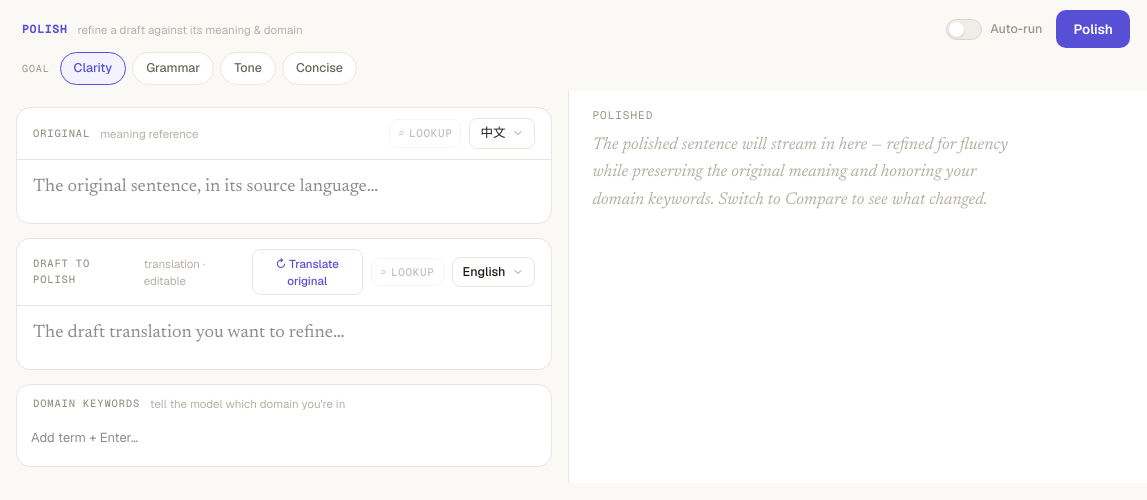
Test case: PolishPanel › shows a Stop control while translating the original and aborts it on click
Type "原文" into the text box labelled "original" at (206, 188), box [17,160,394,216]
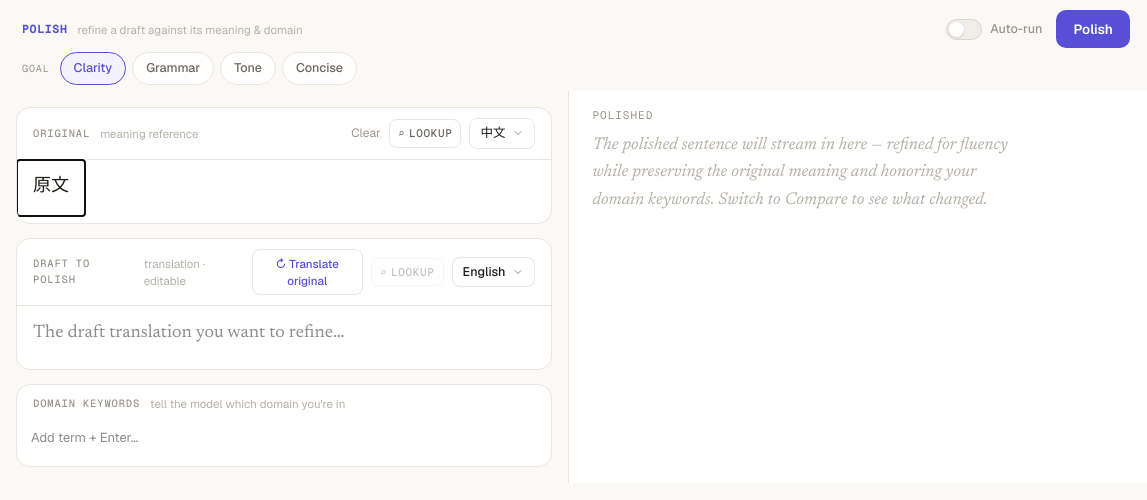
Click the button "↻ Translate original" at (307, 272), box [252,249,363,295]
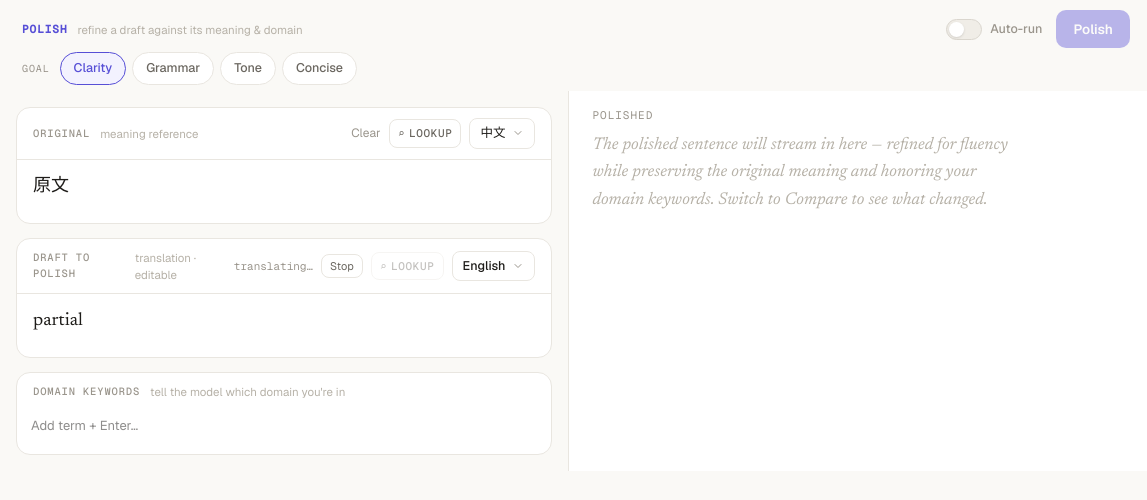
Result: the text "translating…" is shown at [234,258,313,274]
Click the button "Stop" at (342, 266), box [321,254,363,278]
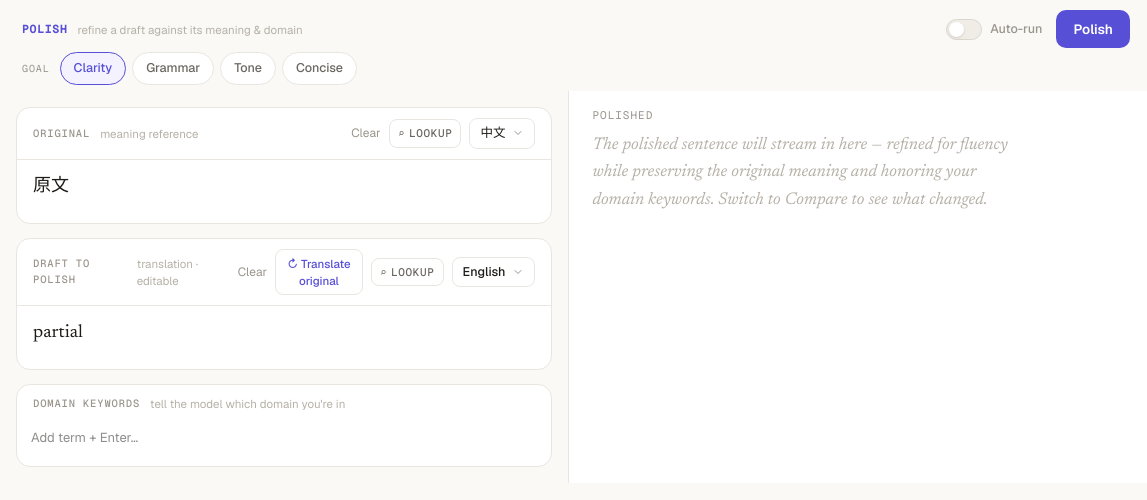
Result: the text box named "Draft to polish" holds "partial" at [17,306,99,362]
Result: the text "translating…" is gone
Result: the button "↻ Translate original" is shown at [275,249,363,295]
